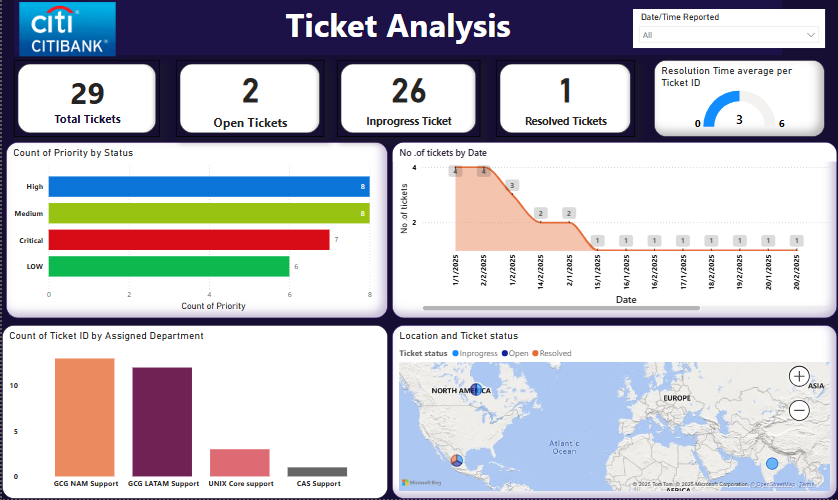

What the dashboard file says about the page in this screenshot:
{"tool":"powerbi","page":{"name":"Citi Bank Ticket Analysis","canvas":[1380,820],"ordinal":0},"visuals":[{"type":"textbox","box":[20.2,0,1260,92.2],"z":0},{"type":"image","box":[15.8,0,181.4,99.4],"z":1000},{"type":"cardVisual","title":"total ","fields":{"Data":["Count(Table1.Ticket ID)"]},"box":[19.7,100,239.4,126.3],"z":2000},{"type":"barChart","fields":{"Y":["CountNonNull(Table1.Priority)"],"Category":["Table1.Status"]},"box":[6.6,234.5,626.5,288.6],"z":3000},{"type":"columnChart","fields":{"Category":["Table1.Assigned Department"],"Y":["Count(Table1.Ticket ID)"]},"box":[0,534.6,633,285.4],"z":4000},{"type":"cardVisual","title":"total ","fields":{"Data":["Tickets.closed Tickets"]},"box":[810.2,100,228,126.3],"z":5000},{"type":"cardVisual","title":"total ","fields":{"Data":["Tickets.Open Tickets"]},"box":[285.4,100,242.7,126.3],"z":6000},{"type":"cardVisual","title":"total ","fields":{"Data":["Tickets.Inprogress Ticket"]},"box":[549.4,100,234.5,126.3],"z":7000},{"type":"slicer","fields":{"Values":["Tickets.Date/Time Reported"]},"box":[1034.8,16.4,314.9,64],"z":8000},{"type":"map","fields":{"Category":["Tickets.Location"],"Series":["Tickets.Ticket status"]},"box":[639.6,534.6,729.8,285.4],"z":9000},{"type":"gauge","fields":{"Y":["Tickets.Resolution Time  average per Ticket ID"]},"box":[1069.3,100,280.4,126.3],"z":10000},{"type":"lineChart","fields":{"Category":["Tickets.Date/Time Reported"],"Y":["Count(Tickets.Ticket ID)"]},"box":[639.6,234.5,729.8,288.6],"z":11000}]}

Visuals, with their boxes in screenshot pixels (x1, y1, x2, y2), scaled from the page's 1380x820 canvas onto the 838x500 screenshot:
textbox: bbox(12, 0, 777, 56)
image: bbox(10, 0, 120, 61)
"total " cardVisual: bbox(12, 61, 157, 138)
barChart - CountNonNull(Table1.Priority) x Table1.Status: bbox(4, 143, 384, 319)
columnChart - Table1.Assigned Department x Count(Table1.Ticket ID): bbox(0, 326, 384, 499)
"total " cardVisual: bbox(492, 61, 630, 138)
"total " cardVisual: bbox(173, 61, 321, 138)
"total " cardVisual: bbox(334, 61, 476, 138)
slicer - Tickets.Date/Time Reported: bbox(628, 10, 820, 49)
map - Tickets.Location x Tickets.Ticket status: bbox(388, 326, 832, 499)
gauge - Tickets.Resolution Time  average per Ticket ID: bbox(649, 61, 820, 138)
lineChart - Tickets.Date/Time Reported x Count(Tickets.Ticket ID): bbox(388, 143, 832, 319)
